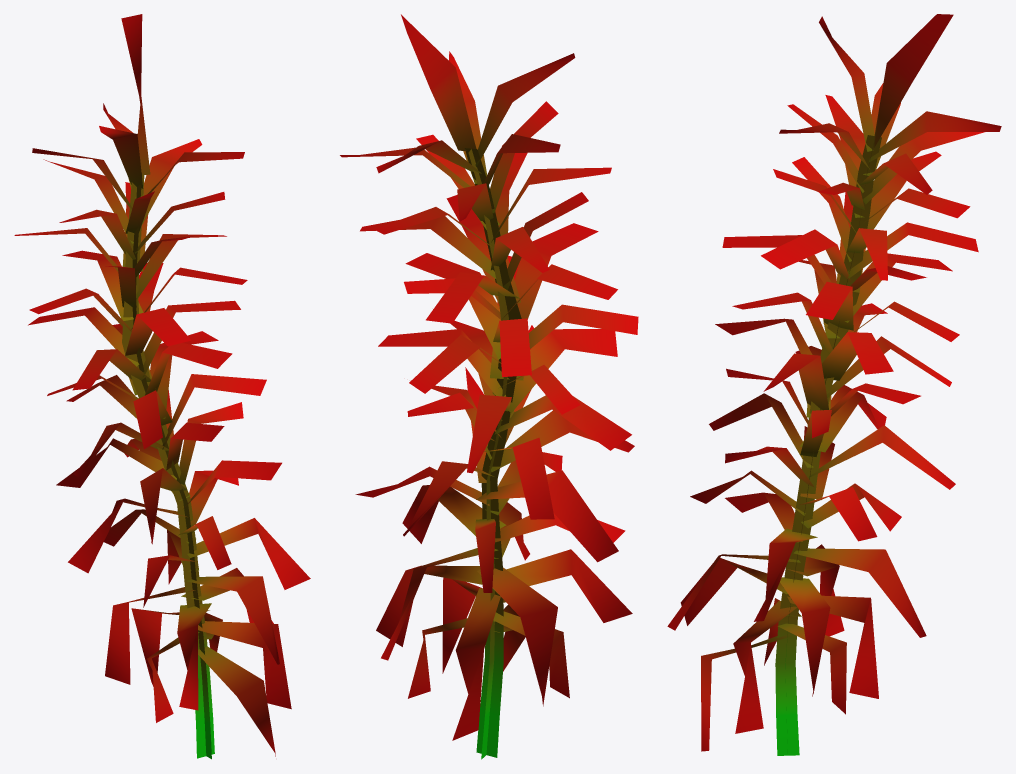
File: Dragon Tree_LOD2_Var3_siumT.fbx
3 views of the same model, side by side, from view 1: azimuth 30°, elevation 25°; view 2: azimuth 150°, elevation 25°; view 3: azimuth 270°, elevation 25° (orthographic). The views are drawn at different scales.
Visible parts, largest first — view 1: _5121_Var3_LOD2; view 2: _5121_Var3_LOD2; view 3: _5121_Var3_LOD2.
Boxes of the visible parts, box(x1,y1,x2,y2) form: _5121_Var3_LOD2: box(14, 14, 310, 759); _5121_Var3_LOD2: box(340, 14, 638, 759); _5121_Var3_LOD2: box(667, 14, 1001, 755).
Size of the model in its own units: 43.99 by 126 by 51.33.
